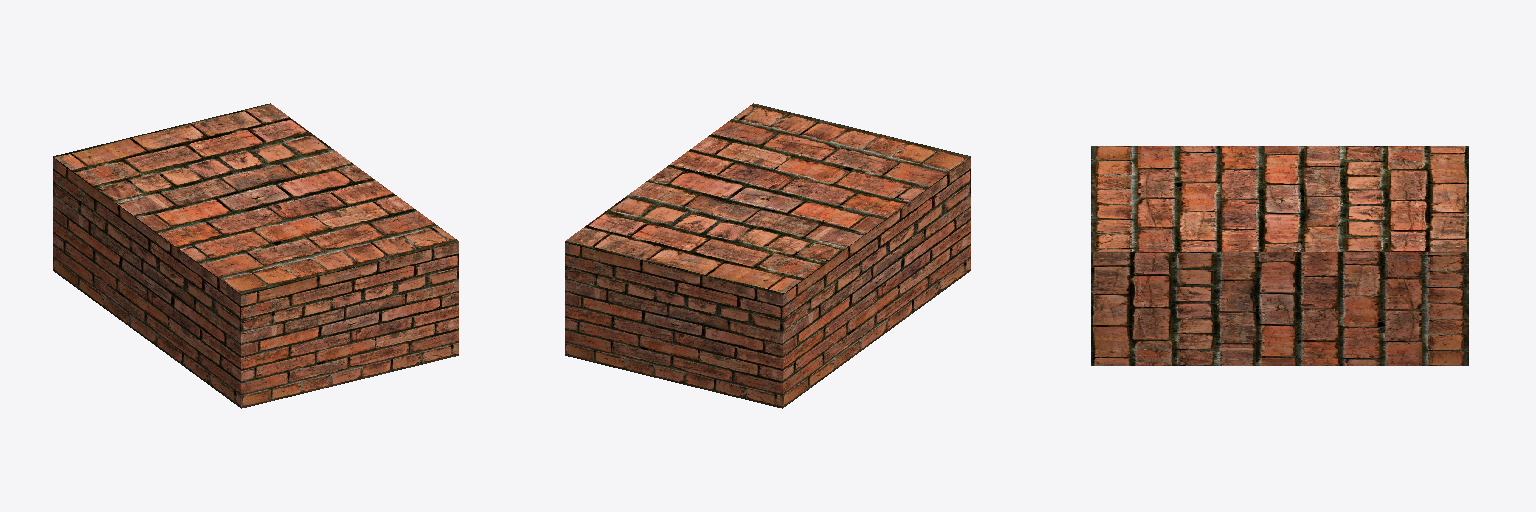
3 renders of one model, left to right at view 1: azimuth 30°, elevation 25°; view 2: azimuth 150°, elevation 25°; view 3: azimuth 270°, elevation 25°, orthographic.
Parts seen in each view (by area): view 1: Brick_Wall; view 2: Brick_Wall; view 3: Brick_Wall.
Boxes of the visible parts, box(x1,y1,x2,y2) form: Brick_Wall: box(53, 103, 458, 408); Brick_Wall: box(565, 103, 970, 408); Brick_Wall: box(1091, 146, 1468, 365).
Size of the model in its own units: 4 by 2 by 6.
Materials: 1 (1 with a texture image).